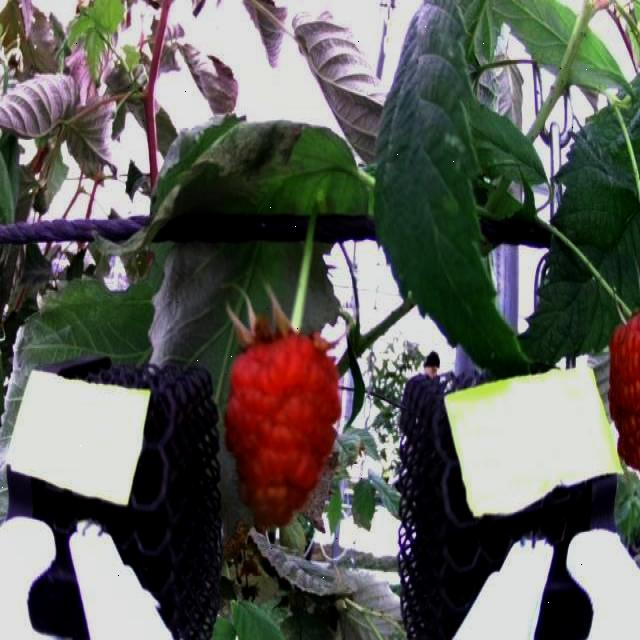Riped berries: (221, 324, 344, 529), (608, 310, 640, 483)
